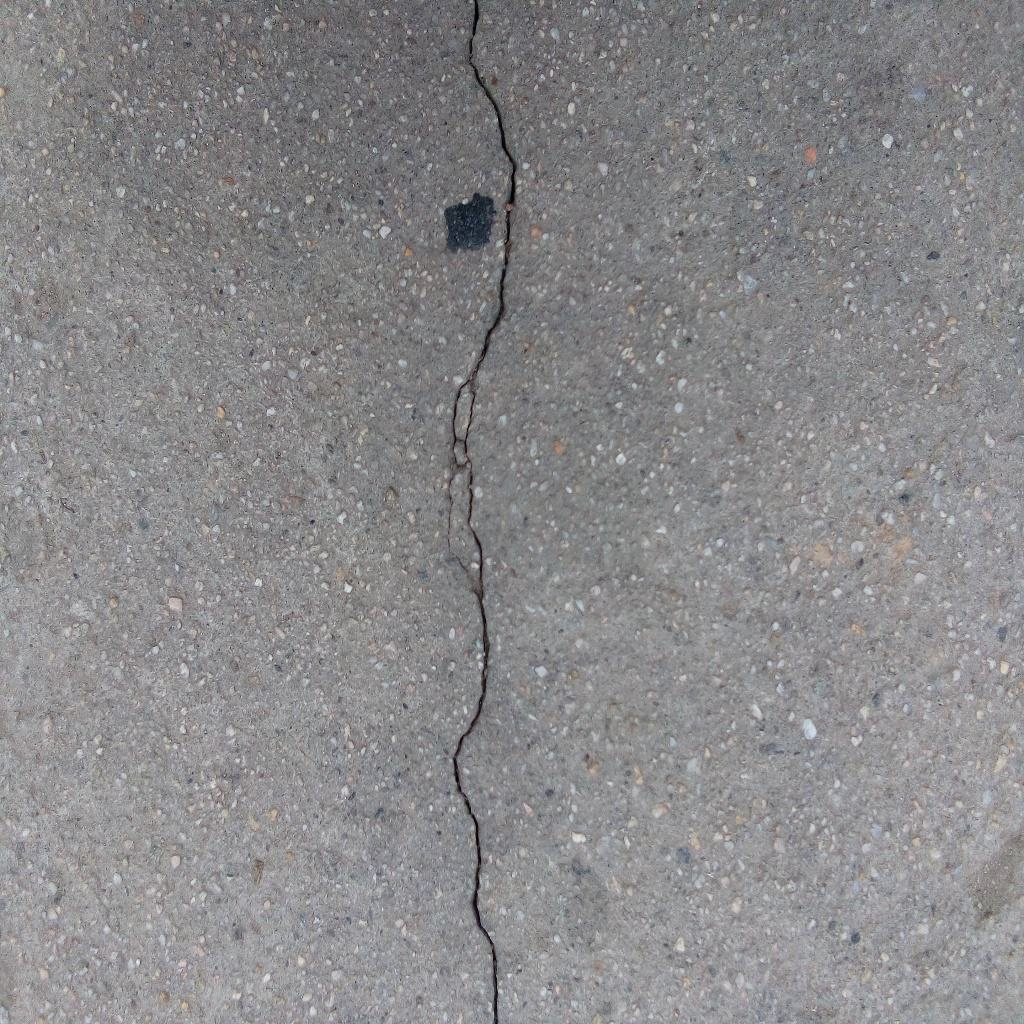Crack: (450, 1, 518, 1024)
